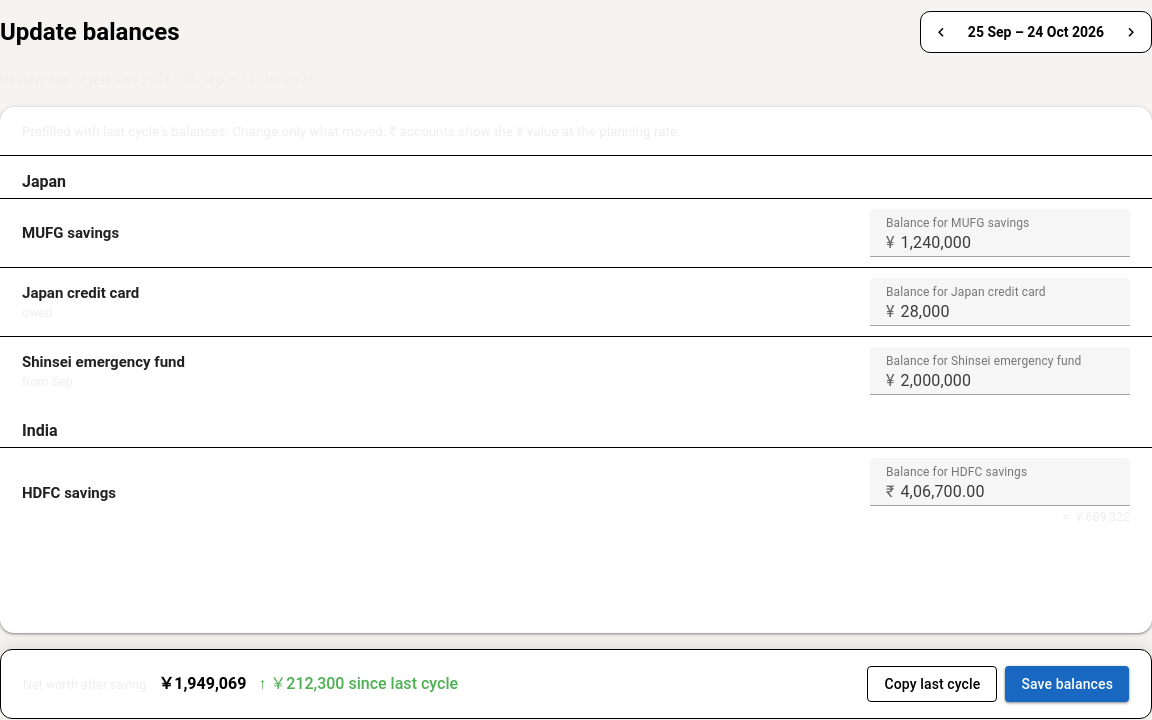
Test: UpdateBalancesPage › maps a PUT 400 field error (details path ['entries', 1, 'amount']) onto the right field, not the other one
Replace the text in the field labelled "Balance for MUFG savings" with "1250000" at (1012, 233), box [895,209,1130,257]
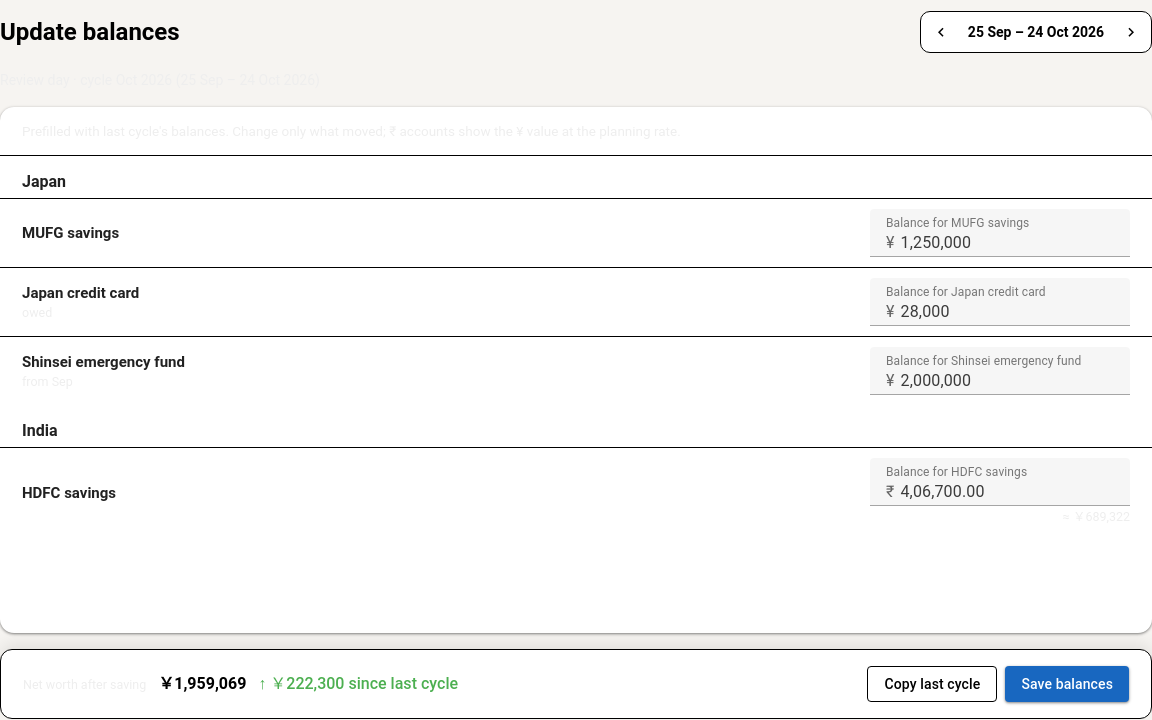
Click the button "Save balances" at (1067, 684), box [1005,666,1129,702]
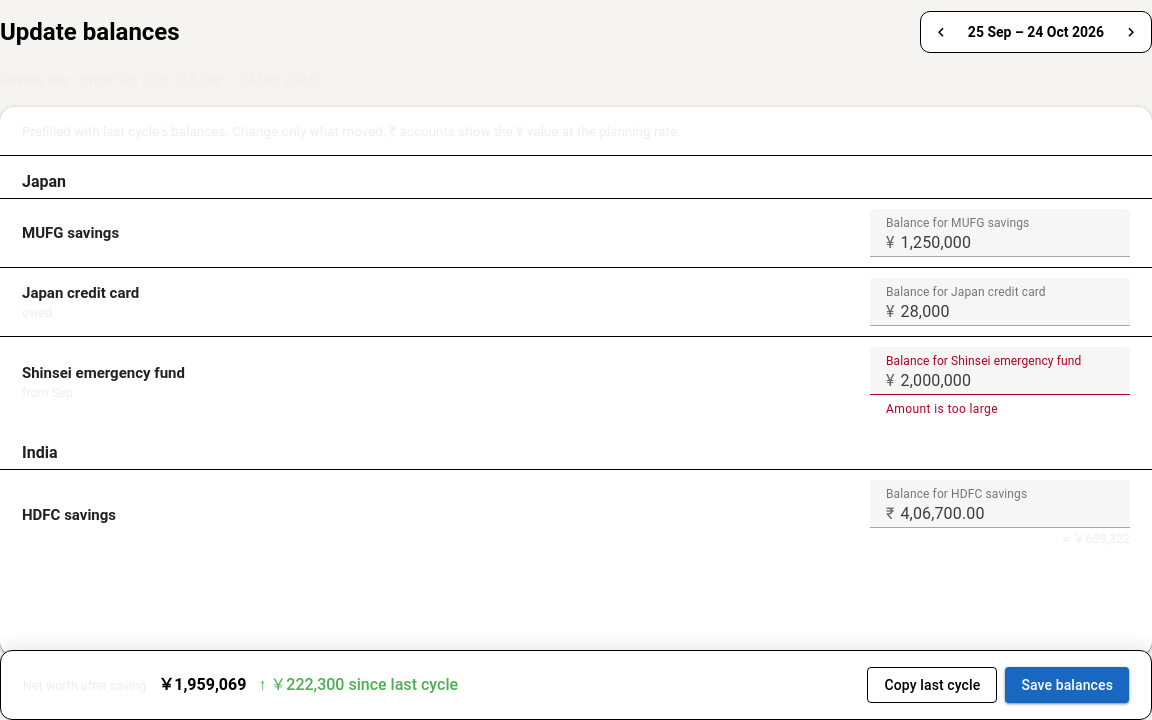
Expected: the element with class "brow" does not show "Amount is too large"
Expected: the element with class "brow" shows "Amount is too large", [886,402,998,416]
